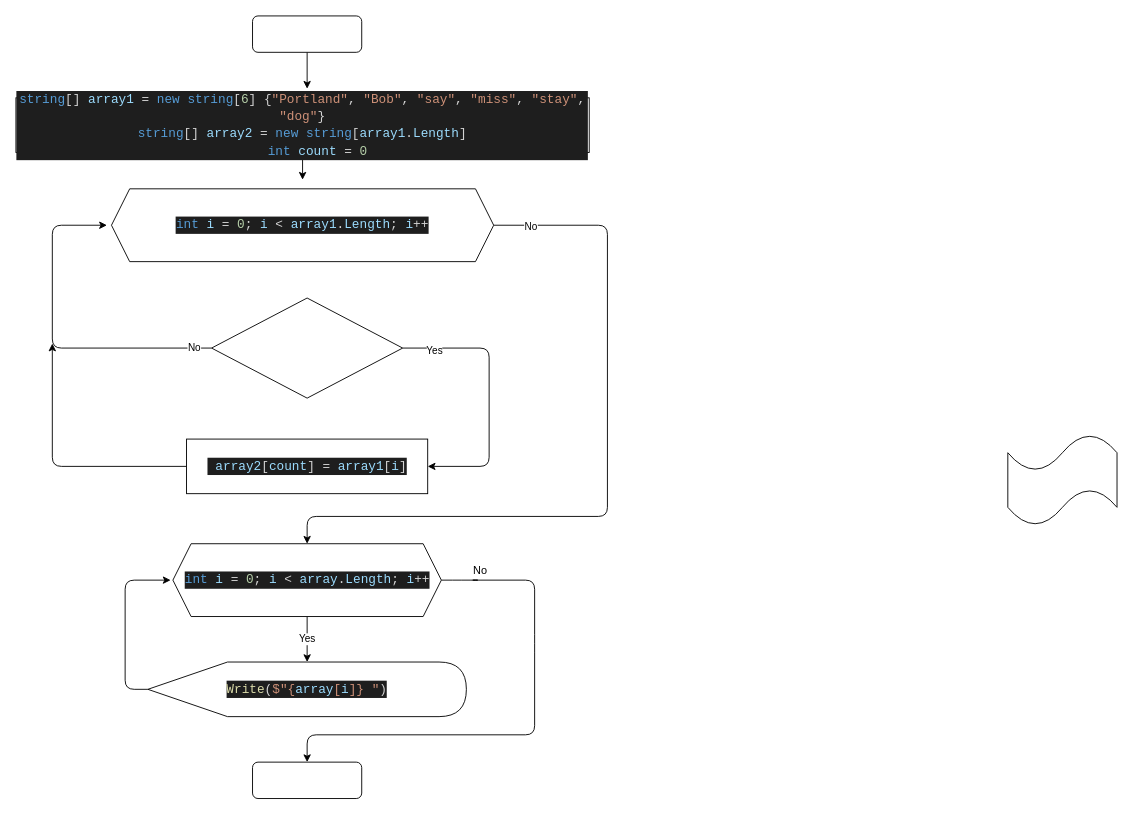
This 1133x814 diagram has some shape labels left out. Each missing label, with the box of its shape:
array1 [ i ]. Length <= 3: (211, 297, 403, 398)
END: (252, 761, 362, 799)
START: (252, 15, 362, 52)
